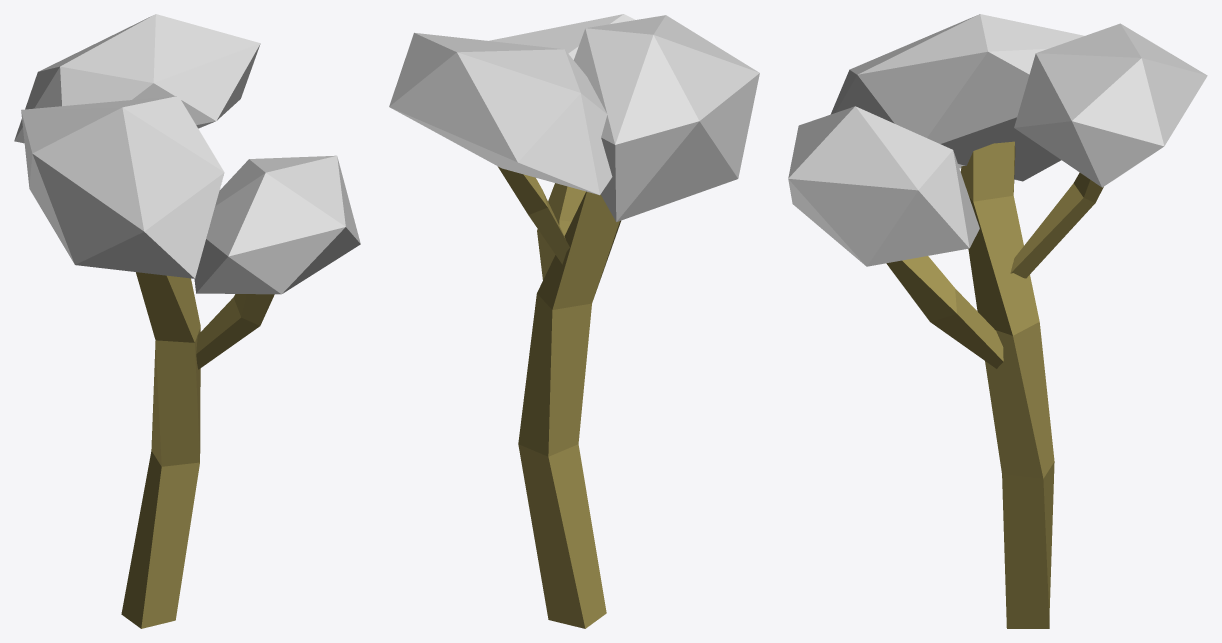
The model's file is Tree_Winter_6.fbx.
3 renders of one model, left to right at view 1: azimuth 30°, elevation 25°; view 2: azimuth 150°, elevation 25°; view 3: azimuth 270°, elevation 25°, orthographic. The views are drawn at different scales.
Visible parts, largest first — view 1: Leaves.002, Trunk, Leaves.001, Leaves, Trunk.002; view 2: Leaves.002, Trunk, Leaves, Trunk.001, Leaves.001, Trunk.002; view 3: Trunk, Leaves.001, Leaves.002, Leaves, Trunk.002, Trunk.001.
Part boxes in pixels (left/top/right/bottom): Leaves.002: left=21, top=96, right=224, bottom=278; Trunk: left=121, top=272, right=200, bottom=628; Leaves.001: left=194, top=155, right=360, bottom=294; Leaves: left=14, top=14, right=260, bottom=143; Trunk.002: left=196, top=294, right=274, bottom=369; Leaves.002: left=574, top=15, right=759, bottom=221; Trunk: left=518, top=191, right=620, bottom=628; Leaves: left=389, top=32, right=612, bottom=195; Trunk.001: left=497, top=166, right=569, bottom=264; Leaves.001: left=489, top=14, right=635, bottom=59; Trunk.002: left=537, top=183, right=585, bottom=279; Trunk: left=960, top=141, right=1054, bottom=628; Leaves.001: left=788, top=106, right=979, bottom=266; Leaves.002: left=830, top=14, right=1084, bottom=181; Leaves: left=1014, top=23, right=1207, bottom=187; Trunk.002: left=886, top=256, right=1003, bottom=368; Trunk.001: left=1010, top=172, right=1103, bottom=278.
Bounding box in the file's own units: 137 × 286 × 183.
